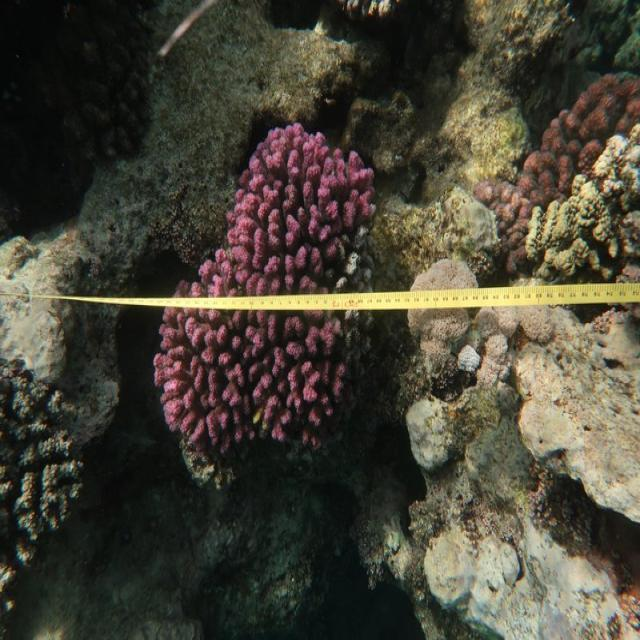Dead Coral: (0, 353, 92, 590)
Healthy Coral: (153, 118, 381, 450), (505, 42, 640, 289)
